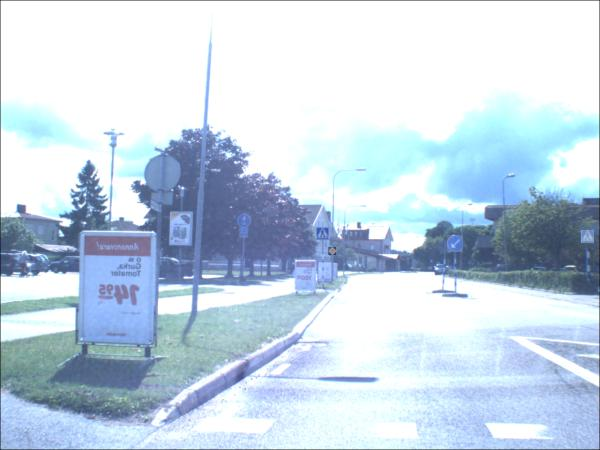PASS_RIGHT_SIDE: (447, 236, 464, 254)
PEDESTRIAN_CROSSING: (581, 231, 595, 245), (317, 229, 329, 241)
PRIORITY_ROAD: (328, 248, 337, 257)
